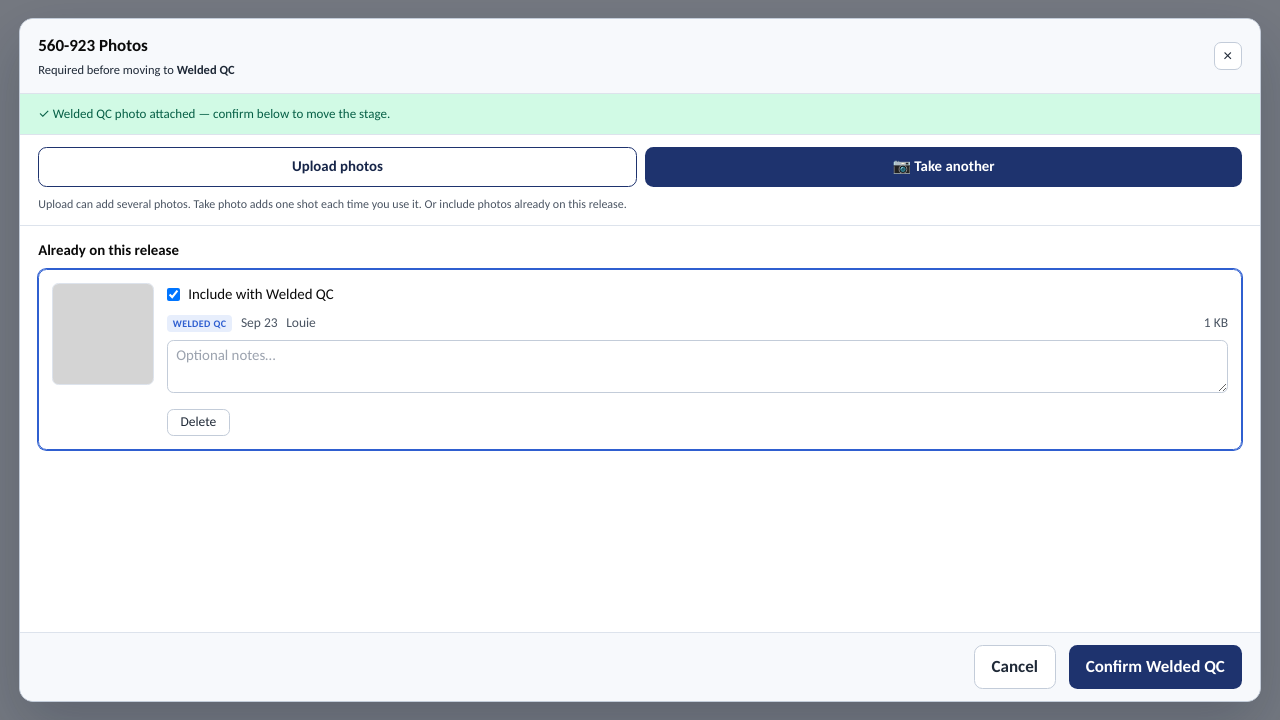
Test: unlocking Confirm › drops confirm when the included photo is unchecked
The image size is (1280, 720).
What coordinates should you click on to do the following:
click the checkbox labelled "Include with Welded QC"
I would click on:
 (173, 294)
Its box is [167, 288, 180, 301].
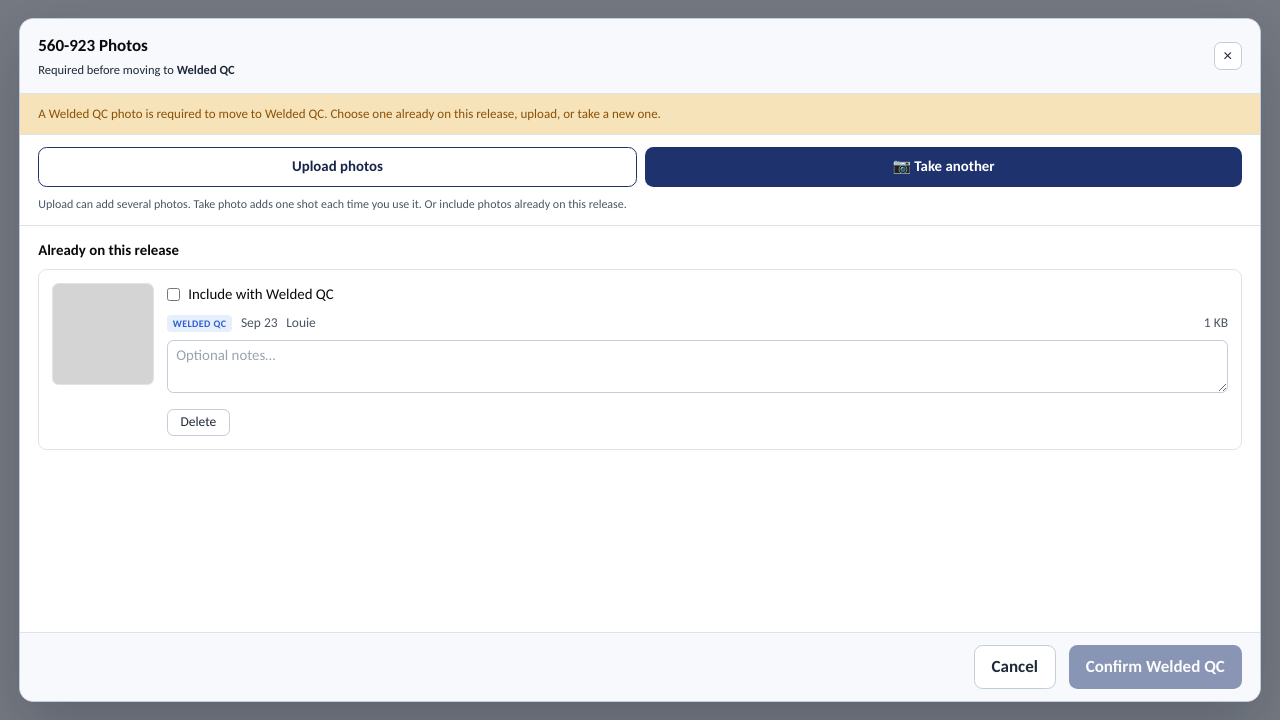
Expected: the button "Confirm Welded QC" is disabled, [1069, 644, 1242, 689]
